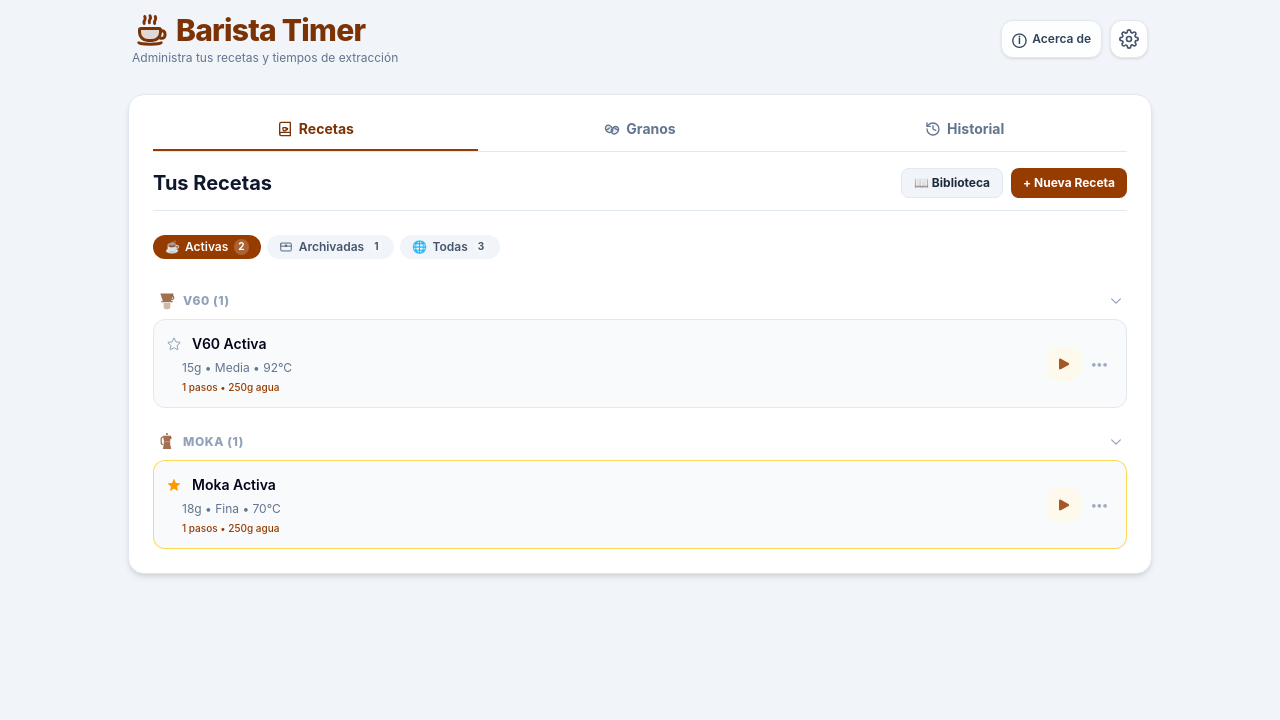
it: Sistema de Archivado de Recetas › App — Flujo de archivado integral › 11. Archivar desde el menú de la tarjeta funciona y muestra el toast
Abrir menú de la receta "V60 Activa" (primera receta activa)
What coordinates should you click on to do the following:
click the button titled "Más opciones" in the row of "92"
I would click on:
 (1099, 364)
Its box is [1085,350,1114,378].
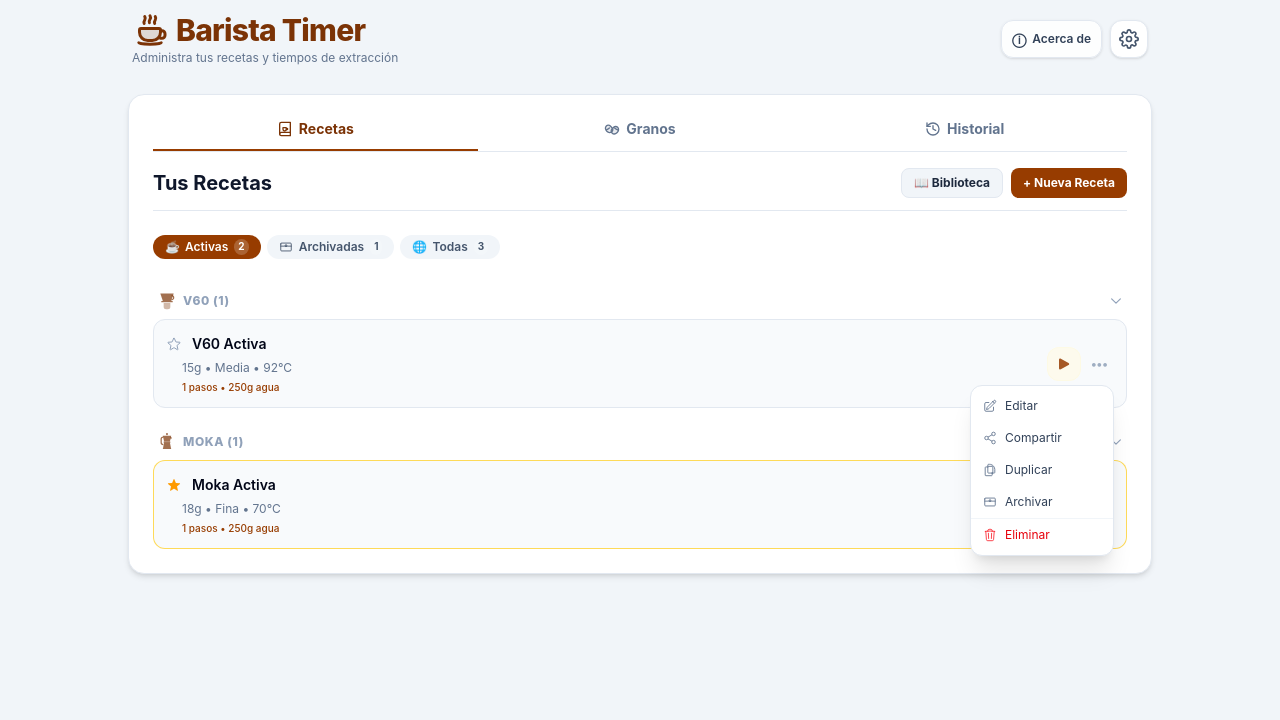
Hacer clic en "Archivar"
What coordinates should you click on to do the following:
click the button "Archivar"
I would click on:
 (1042, 502)
Its box is [971,486,1113,518].
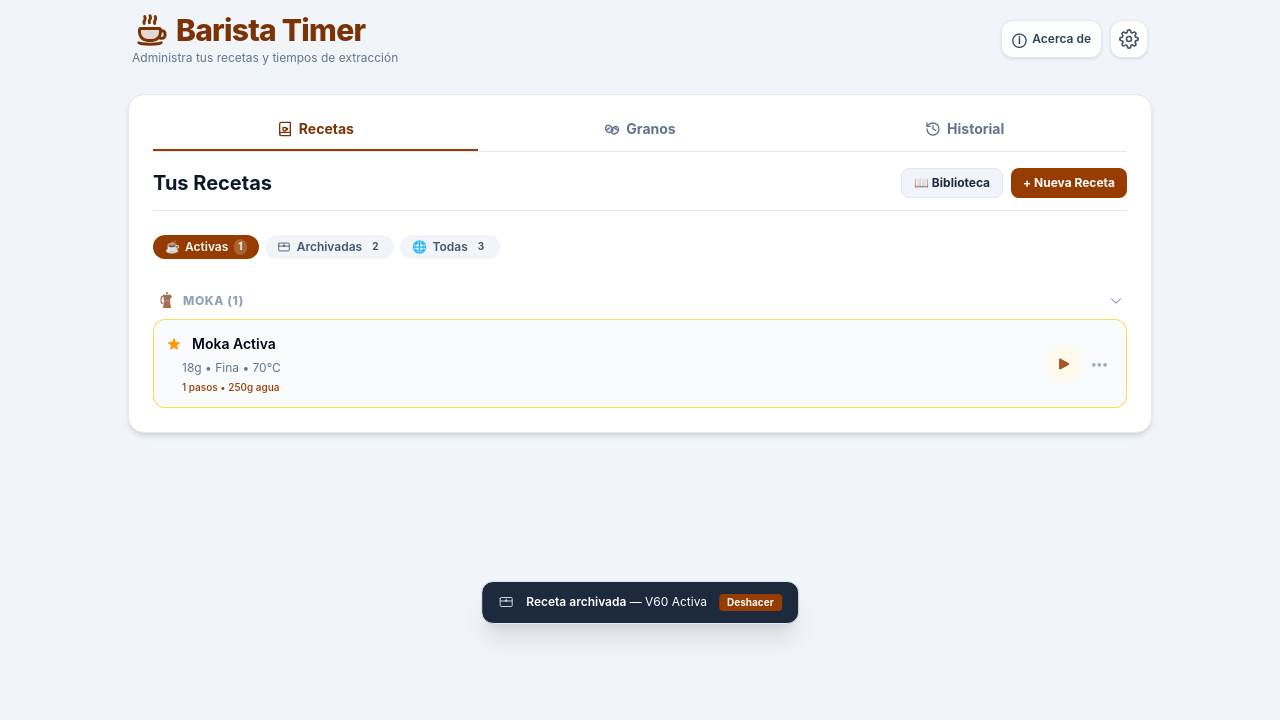
Check: the text "Receta archivada" is shown, box [526,594,626,609]
Check: the text "Receta archivada — V60 Activa" is shown, box [526,594,707,610]
Check: the button "Deshacer" is shown, box [719,594,782,611]
